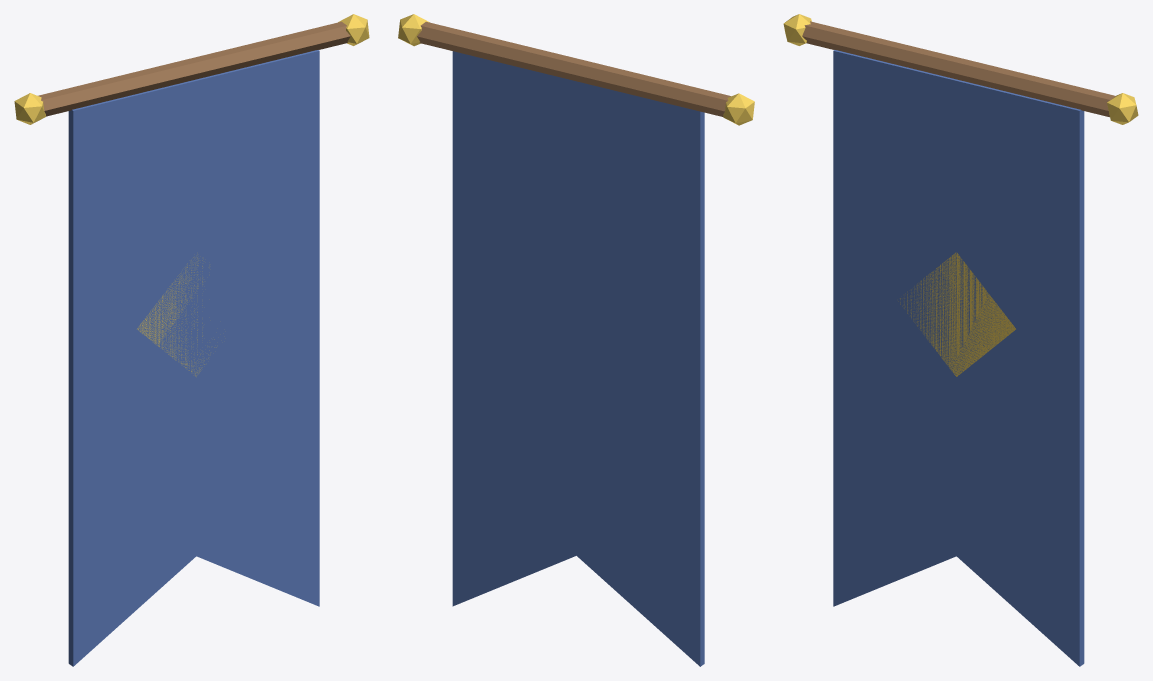
File: SM_Banner_Blue.glb
3 renders of one model, left to right at view 1: azimuth 30°, elevation 25°; view 2: azimuth 150°, elevation 25°; view 3: azimuth 330°, elevation 25°, orthographic.
Parts seen in each view (by area): view 1: SM_Banner_Blue; view 2: SM_Banner_Blue; view 3: SM_Banner_Blue.
Part boxes in pixels (box(x1,y1,x2,y2)): SM_Banner_Blue: box(14, 14, 369, 666); SM_Banner_Blue: box(398, 14, 754, 666); SM_Banner_Blue: box(783, 14, 1138, 666).
Bounding box in the file's own units: 0.9116 × 1.44 × 0.0681.
